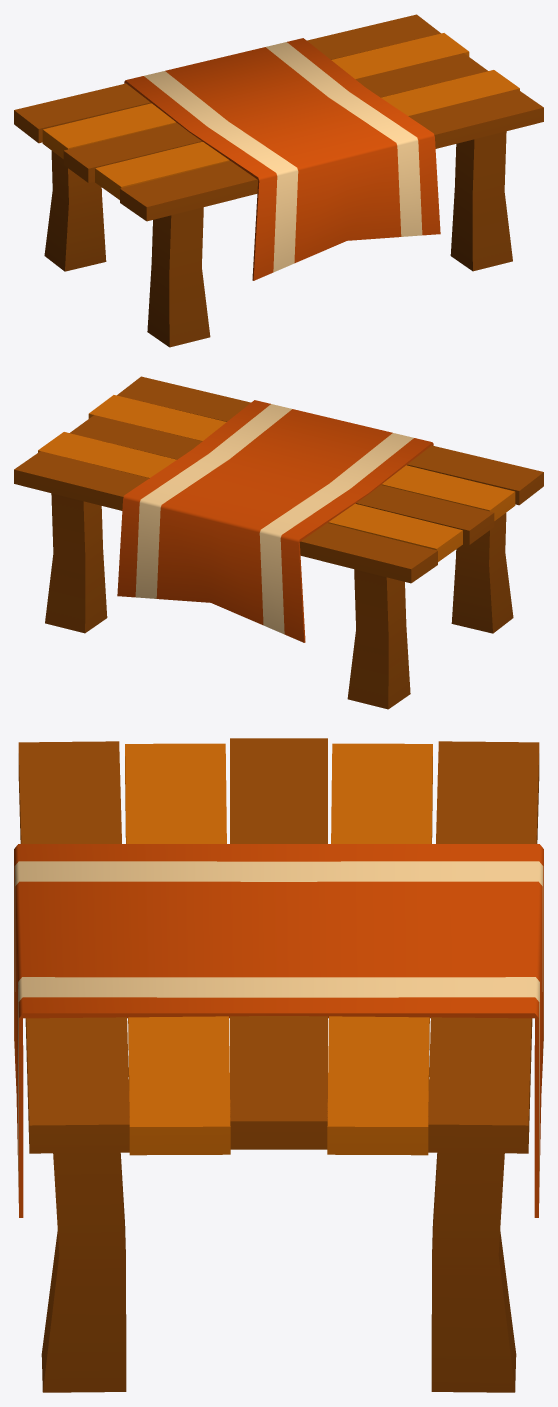
Rendered from Furnitur_Table_Wooden_01.glb.
3 views of the same model, one above another, from view 1: azimuth 30°, elevation 25°; view 2: azimuth 150°, elevation 25°; view 3: azimuth 270°, elevation 25° (orthographic). The views are drawn at different scales.
Parts seen in each view (by area): view 1: Furnitur_Table_Wooden_01; view 2: Furnitur_Table_Wooden_01; view 3: Furnitur_Table_Wooden_01.
Part boxes in pixels (box(x1,y1,x2,y2)): Furnitur_Table_Wooden_01: box(14, 14, 543, 347); Furnitur_Table_Wooden_01: box(14, 376, 543, 709); Furnitur_Table_Wooden_01: box(14, 738, 543, 1392).
Size of the model in its own units: 2.29 by 0.8212 by 1.32.
Materials: 1 (1 with a texture image).
